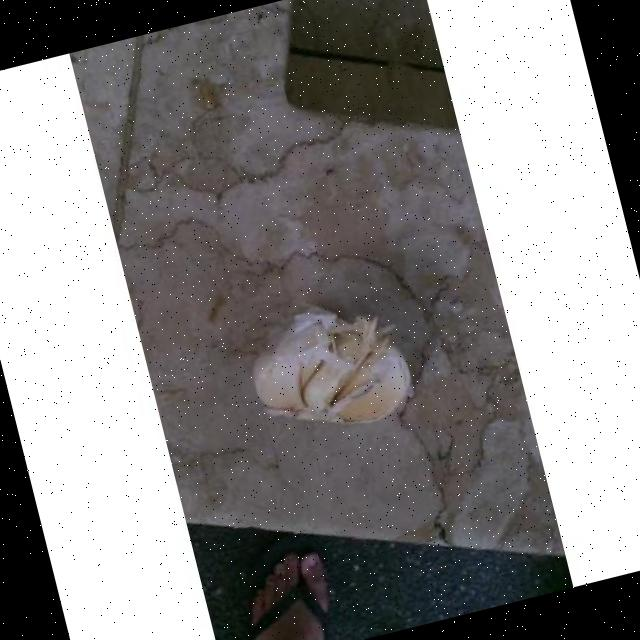garlic: (254, 308, 411, 424)
